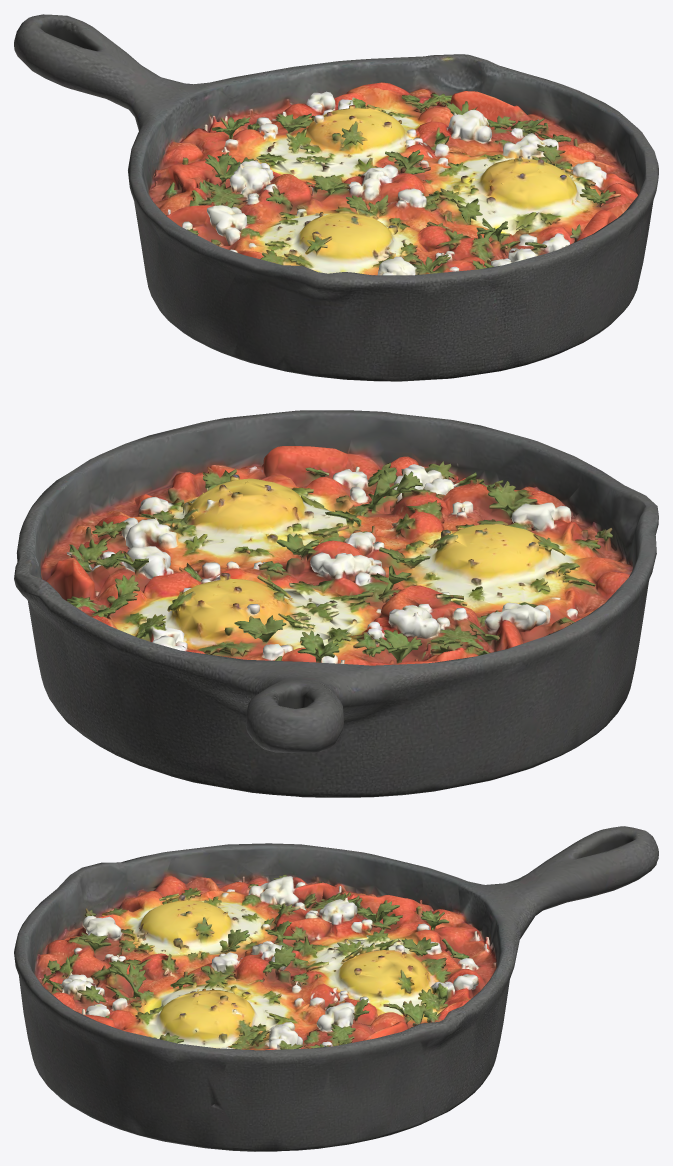
The model's file is shakshuka.glb.
The picture shows the model from 3 angles, top to bottom: view 1: azimuth 30°, elevation 25°; view 2: azimuth 150°, elevation 25°; view 3: azimuth 270°, elevation 25°; orthographic projection. The views are drawn at different scales.
Visible parts, largest first — view 1: tripo_node_2356894d-8c7c-4c60-8be9-c097d2a415ef; view 2: tripo_node_2356894d-8c7c-4c60-8be9-c097d2a415ef; view 3: tripo_node_2356894d-8c7c-4c60-8be9-c097d2a415ef.
Part boxes in pixels (x1,y1,x2,y2): tripo_node_2356894d-8c7c-4c60-8be9-c097d2a415ef: [14, 14, 658, 381]; tripo_node_2356894d-8c7c-4c60-8be9-c097d2a415ef: [14, 410, 658, 797]; tripo_node_2356894d-8c7c-4c60-8be9-c097d2a415ef: [14, 826, 658, 1151].
Size of the model in its own units: 0.7661 by 0.2548 by 0.9794.
1 material, 1 textured.
